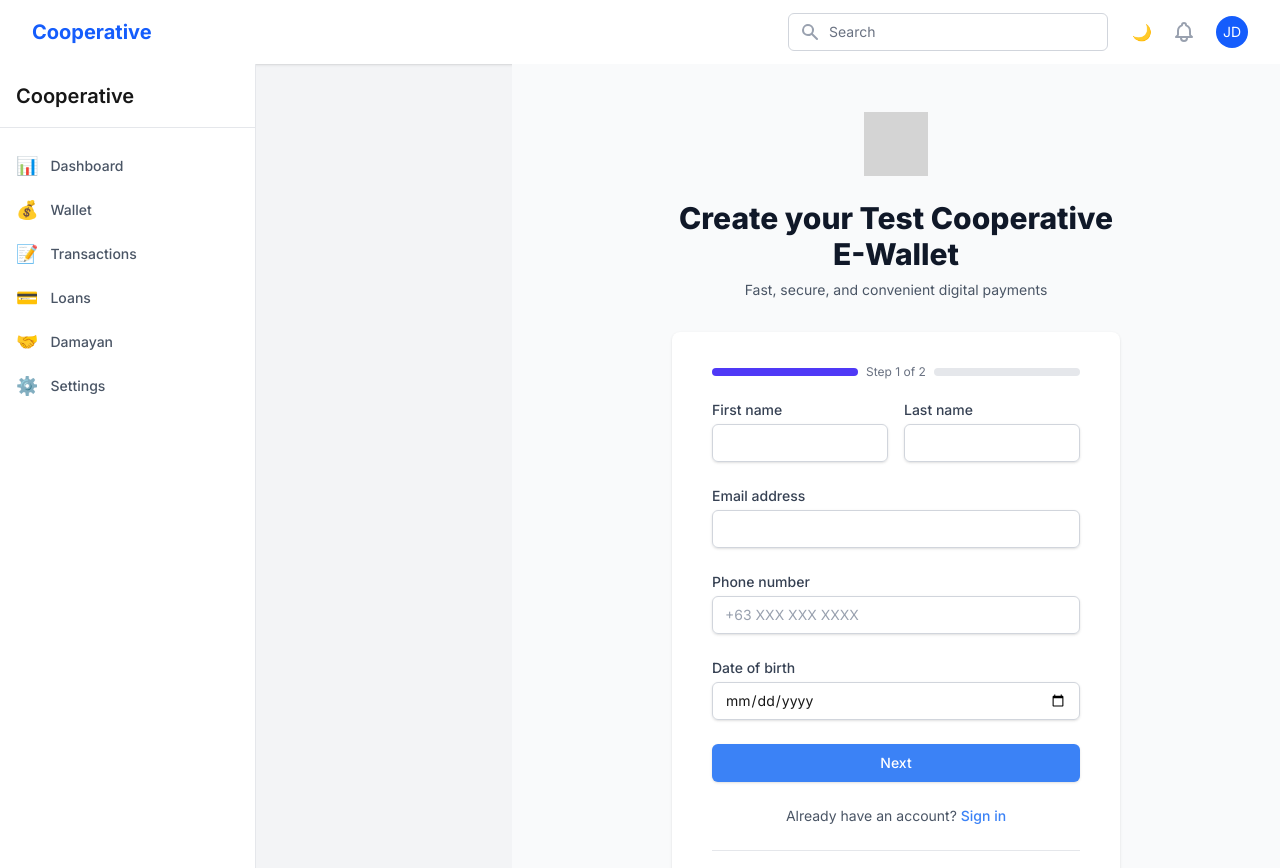
EWalletRegisterPage › validates required fields in step 1 before proceeding
This screenshot has width=1280, height=868.
// Try to proceed without filling out the form
Click the button "Next". click: x=896, y=763
box: [712,744,1080,782]
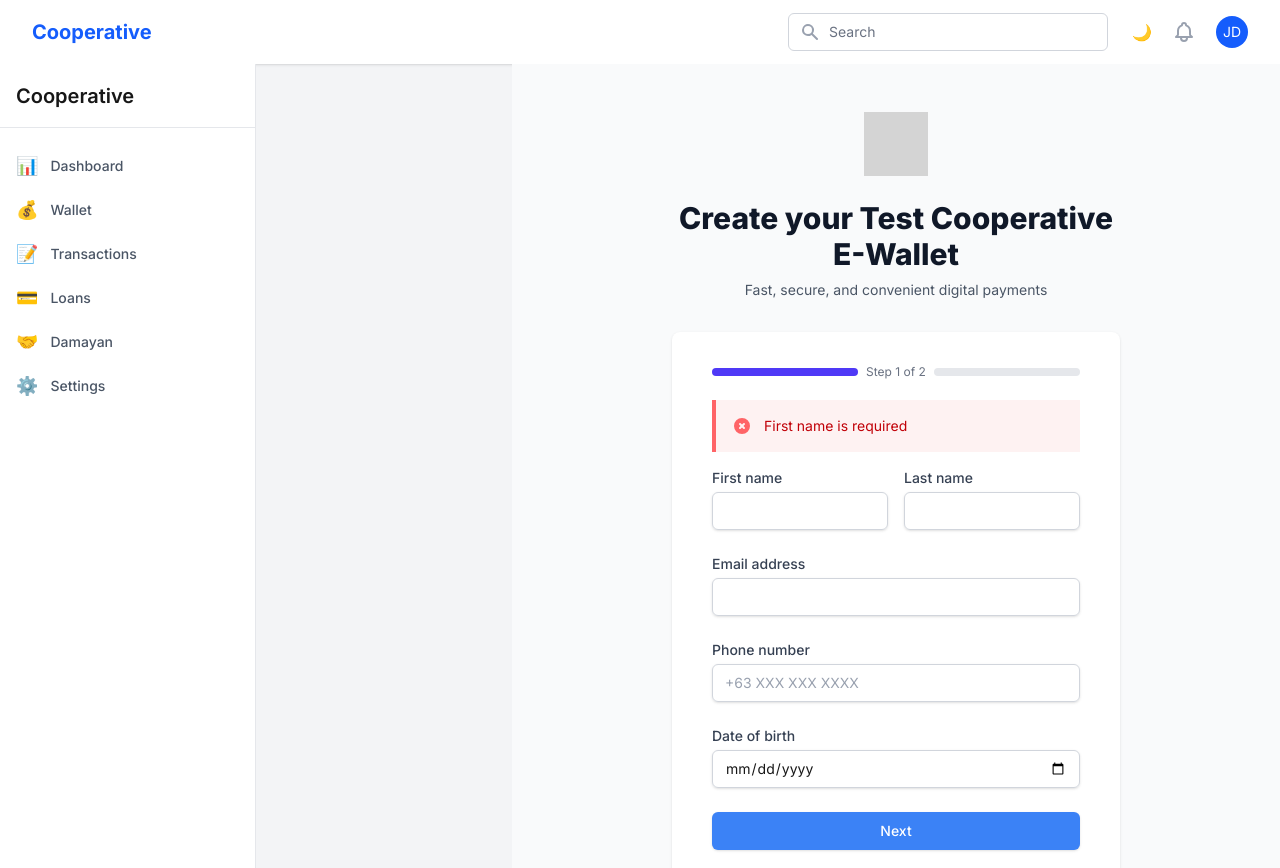
Check: the text "First name is required" is shown, box [764,416,907,436]
